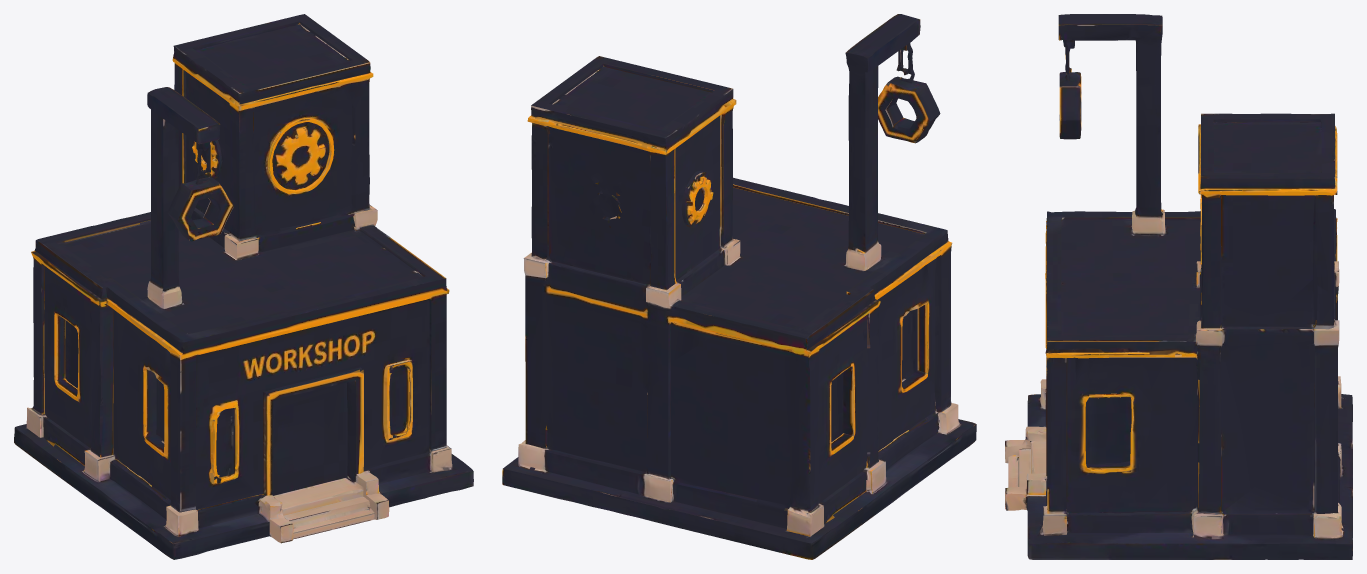
Rendered from workshop.glb.
The picture shows the model from 3 angles, left to right: view 1: azimuth 30°, elevation 25°; view 2: azimuth 150°, elevation 25°; view 3: azimuth 270°, elevation 25°; orthographic projection. The views are drawn at different scales.
Visible parts, largest first — view 1: Workshop; view 2: Workshop; view 3: Workshop.
Part boxes in pixels (bbox=[...]): Workshop: bbox=[14, 14, 473, 559]; Workshop: bbox=[502, 14, 976, 559]; Workshop: bbox=[1005, 14, 1352, 559].
Bounding box in the file's own units: 520 × 678 × 512.
Materials: 1 (1 with a texture image).
